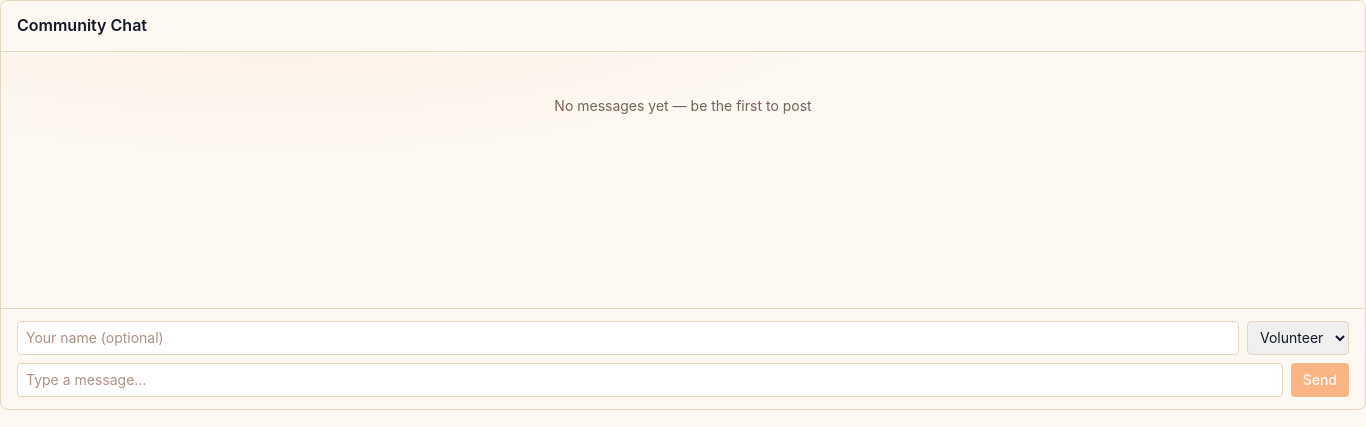
Scenario: message submission › disables send button and shows "Sending…" while POST is in flight
Type "In flight" into the field labelled "message" at (650, 380), box [17,363,1283,397]
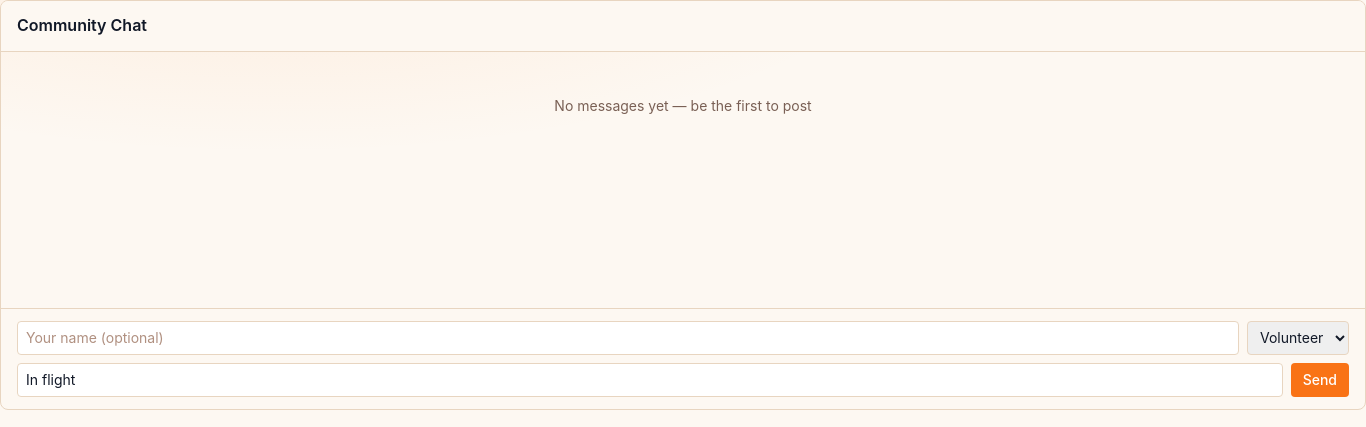
Start the submit but don't await — we want to inspect mid-flight state
Submit the form named "send a message", box [1,308,1365,409]
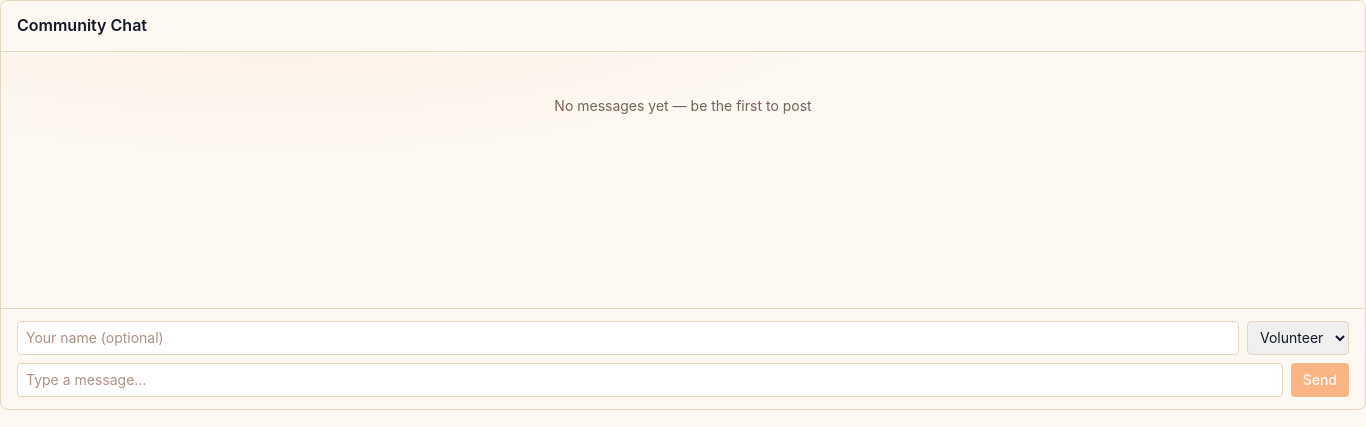
Expected: the button named "sending" is disabled, [1291,363,1349,397]
